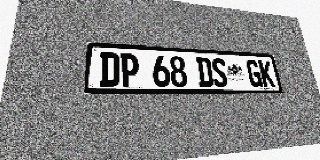6: (152, 55, 171, 87)
8: (169, 56, 188, 87)
D: (99, 52, 119, 87), (196, 57, 214, 87)
G: (245, 60, 263, 87)
K: (258, 60, 276, 87)
P: (120, 53, 139, 87)
S: (211, 58, 229, 87)
